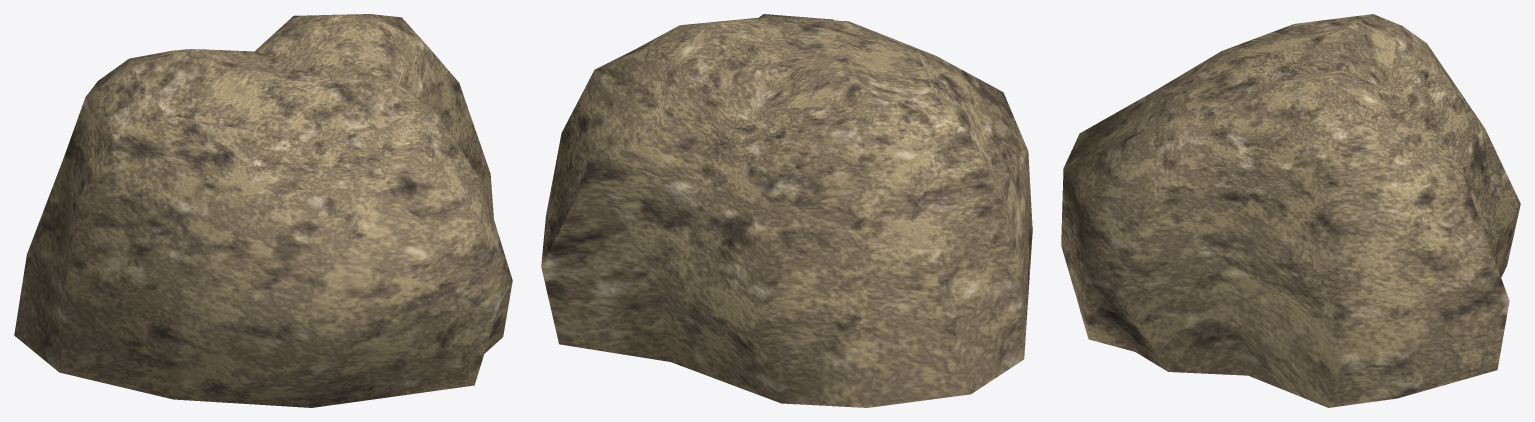
File: stone2.fbx
3 views of the same model, side by side, from view 1: azimuth 30°, elevation 25°; view 2: azimuth 150°, elevation 25°; view 3: azimuth 270°, elevation 25° (orthographic). The views are drawn at different scales.
Visible parts, largest first — view 1: stone2; view 2: stone2; view 3: stone2.
Part boxes in pixels (<box>): stone2: <box>14,14,512,407</box>; stone2: <box>541,14,1032,407</box>; stone2: <box>1061,14,1520,407</box>.
Bounding box in the file's own units: 22.35 × 13.13 × 21.18.
